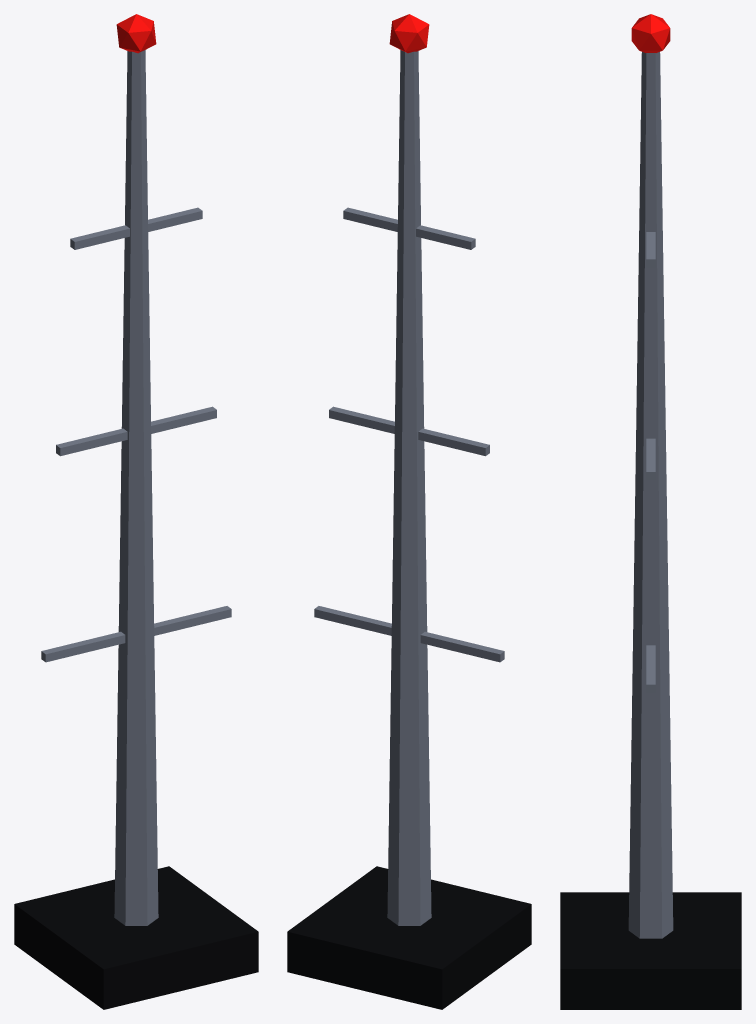
File: antenna.obj
3 views of the same model, side by side, from view 1: azimuth 30°, elevation 25°; view 2: azimuth 150°, elevation 25°; view 3: azimuth 270°, elevation 25° (orthographic).
Visible parts, largest first — view 1: antenna; view 2: antenna; view 3: antenna.
Part boxes in pixels (x1,y1,x2,y2): antenna: [14, 14, 258, 1009]; antenna: [287, 14, 531, 1009]; antenna: [560, 14, 741, 1009].
Size of the model in its own units: 0.48 by 2.33 by 0.4.
